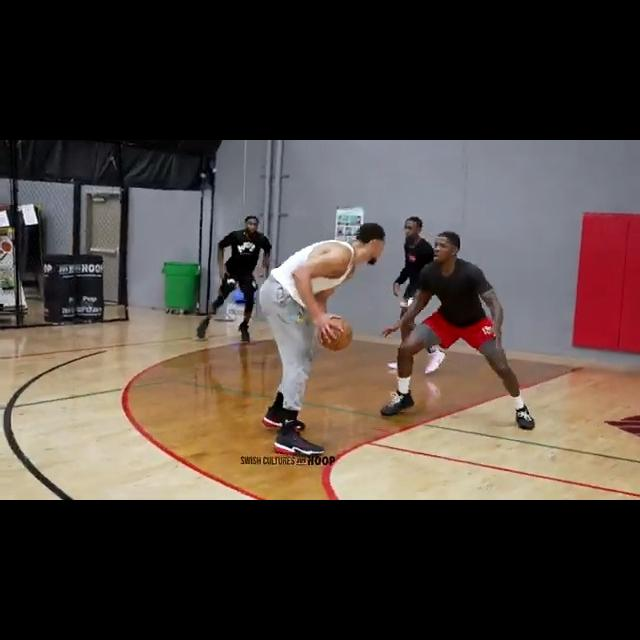basketball: (316, 315, 353, 353)
person: (259, 188, 384, 458), (379, 232, 537, 432), (386, 208, 449, 375), (194, 203, 265, 346)
